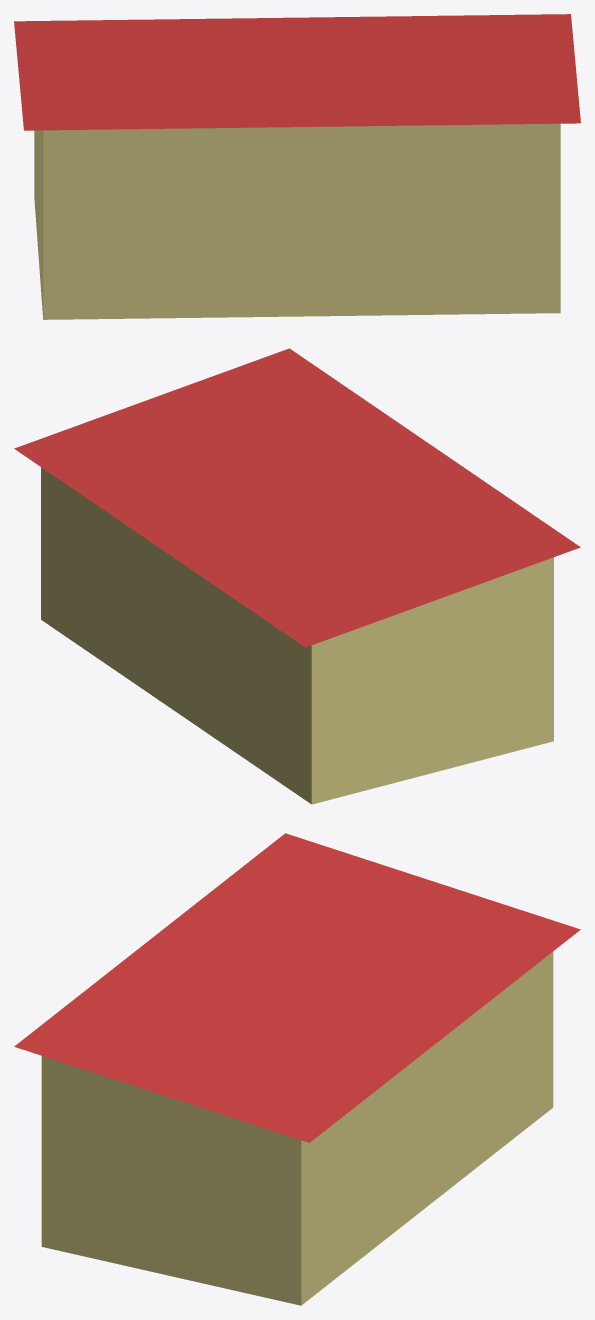
3 renders of one model, top to bottom at view 1: azimuth 30°, elevation 25°; view 2: azimuth 150°, elevation 25°; view 3: azimuth 270°, elevation 25°, orthographic. The views are drawn at different scales.
Bounding box in the file's own units: 32.54 × 27.79 × 11.01.
